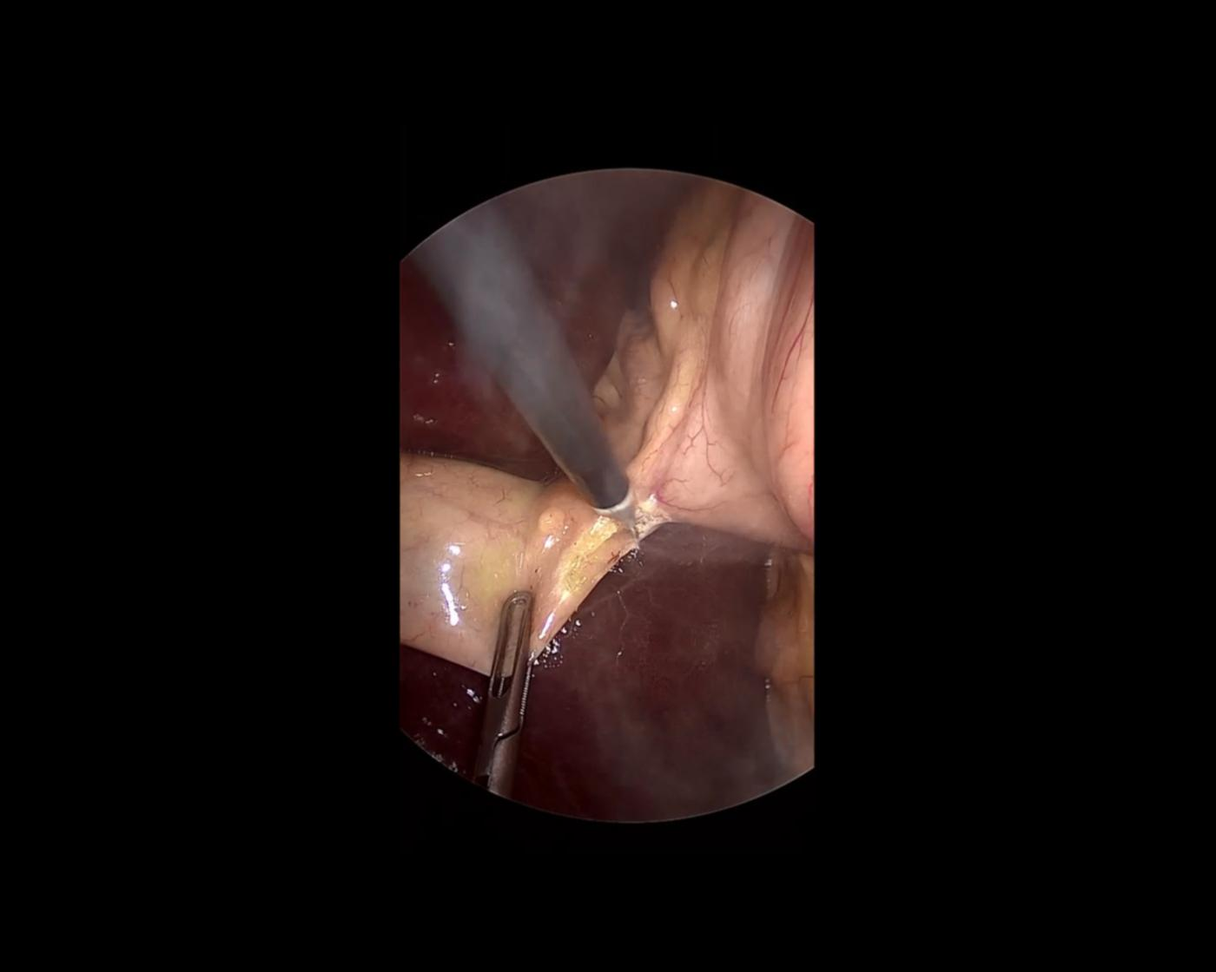Cautery: (405, 198, 651, 568)
Forceps: (469, 588, 547, 801)
Gallbladder: (389, 451, 667, 684)
Liver: (329, 76, 699, 512), (395, 520, 776, 823)
